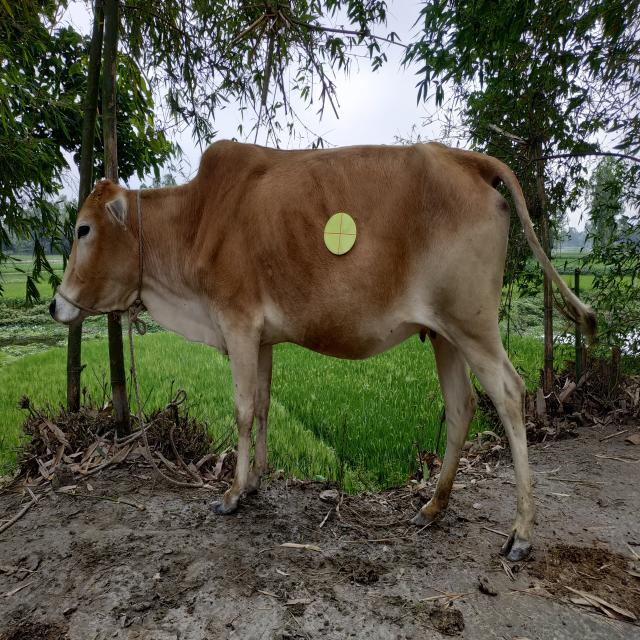badan_sapi: (196, 156, 514, 358)
sapi: (53, 107, 589, 585)
